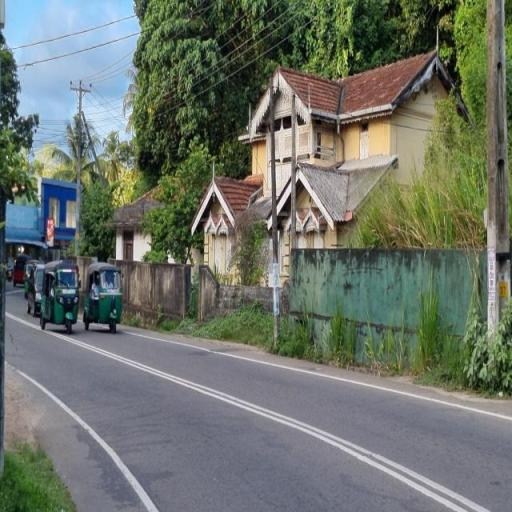double_white_line: (215, 357, 493, 511), (13, 340, 164, 510)
